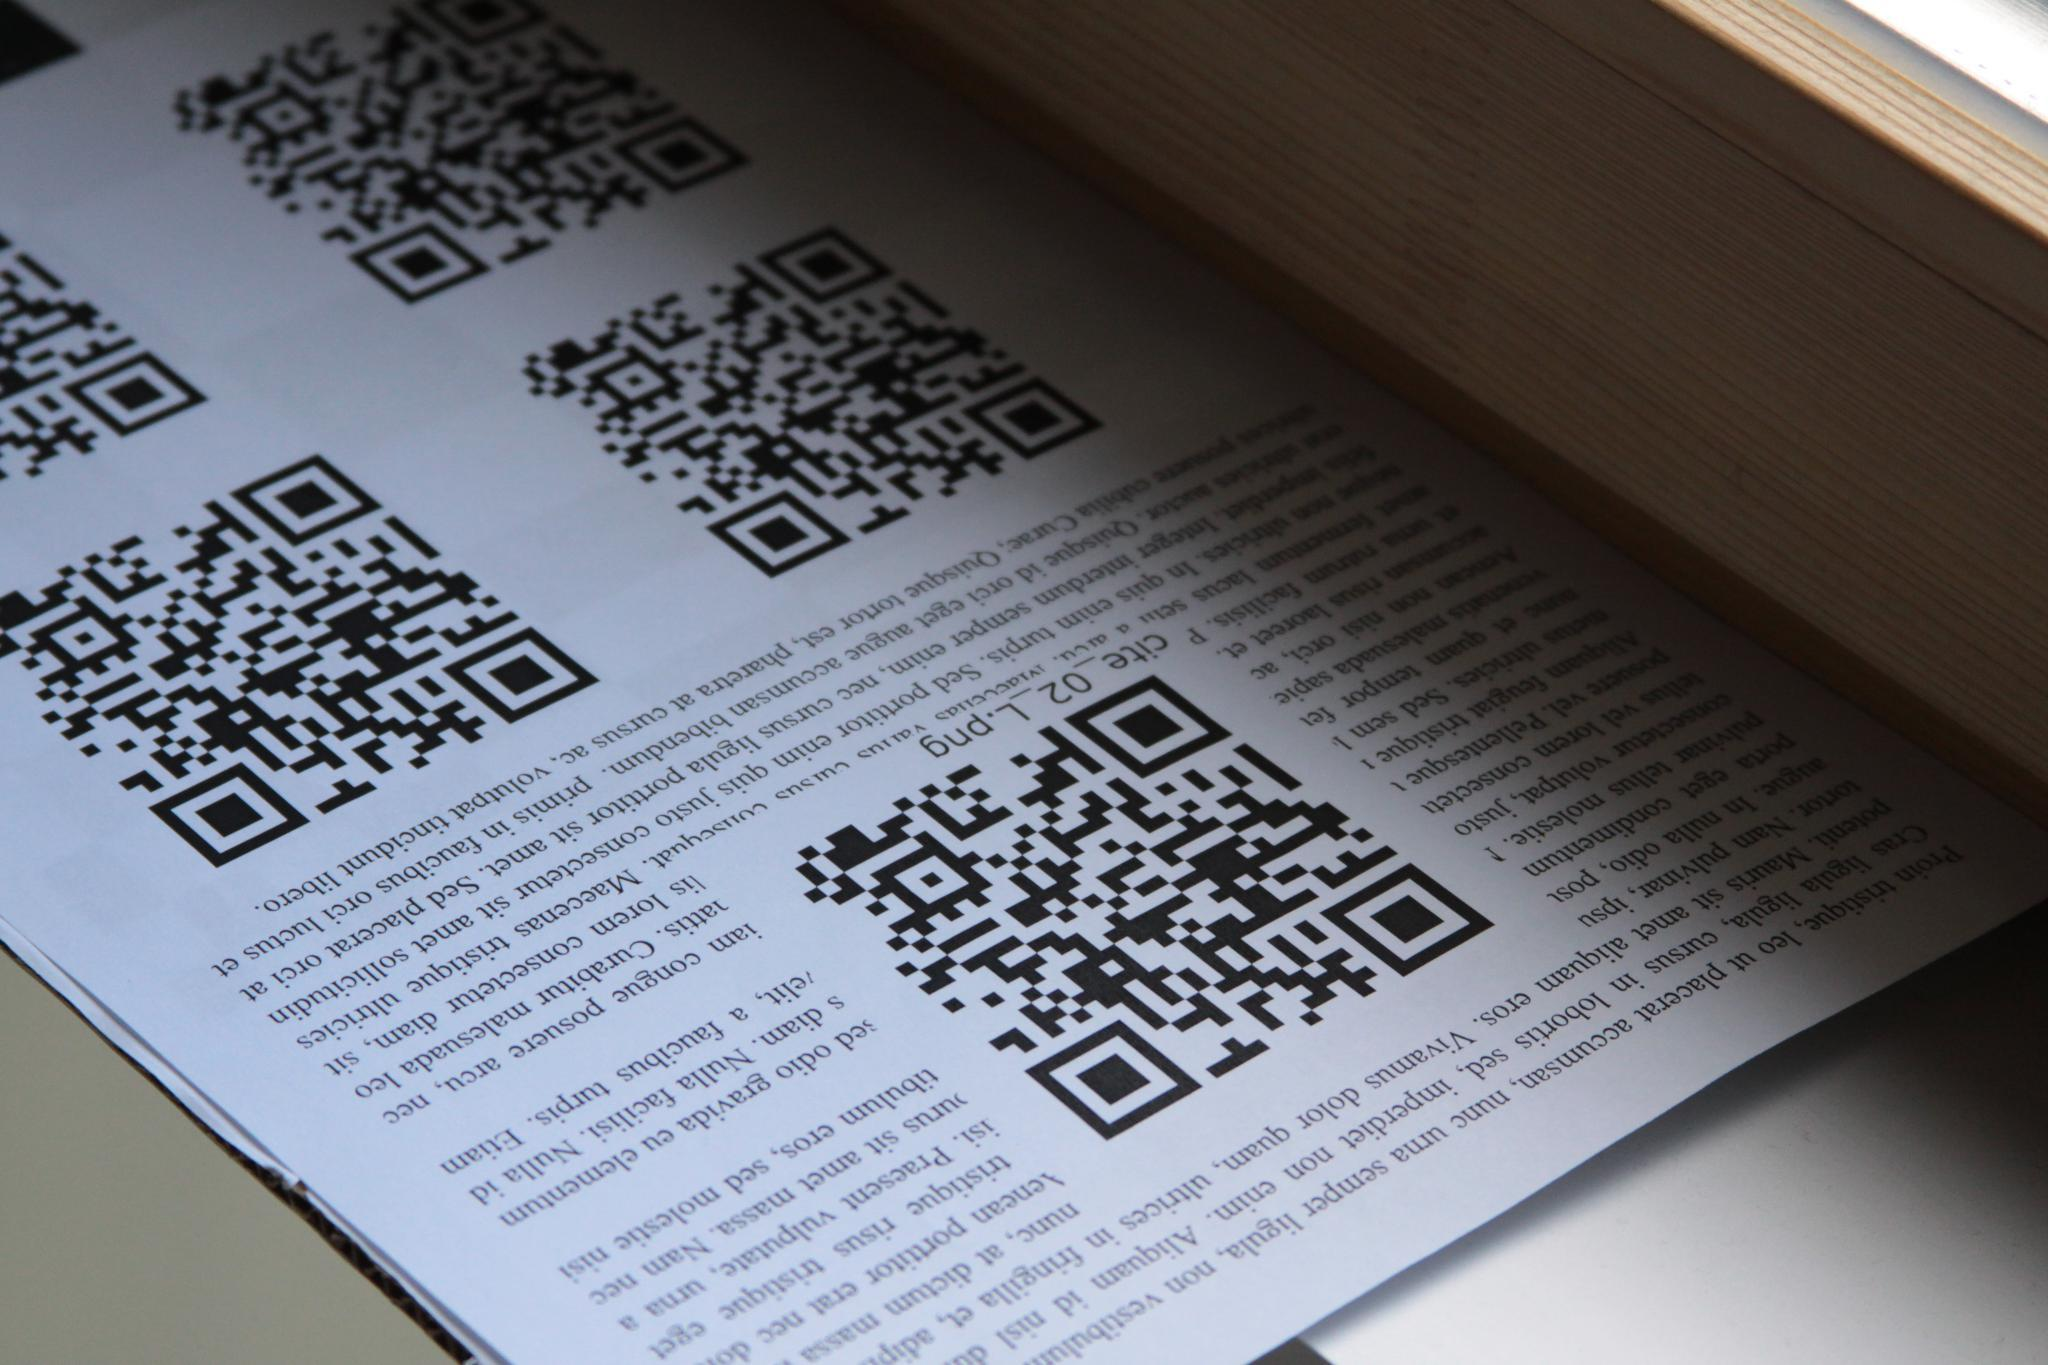Finder pattern: (1014, 1019, 1214, 1141), (425, 612, 608, 730), (137, 763, 327, 868), (1063, 667, 1227, 780), (1334, 853, 1491, 969), (62, 344, 215, 448), (341, 213, 496, 314), (227, 449, 390, 544), (694, 483, 850, 574), (615, 104, 758, 203), (757, 219, 903, 309), (973, 369, 1105, 459), (420, 0, 560, 49)
